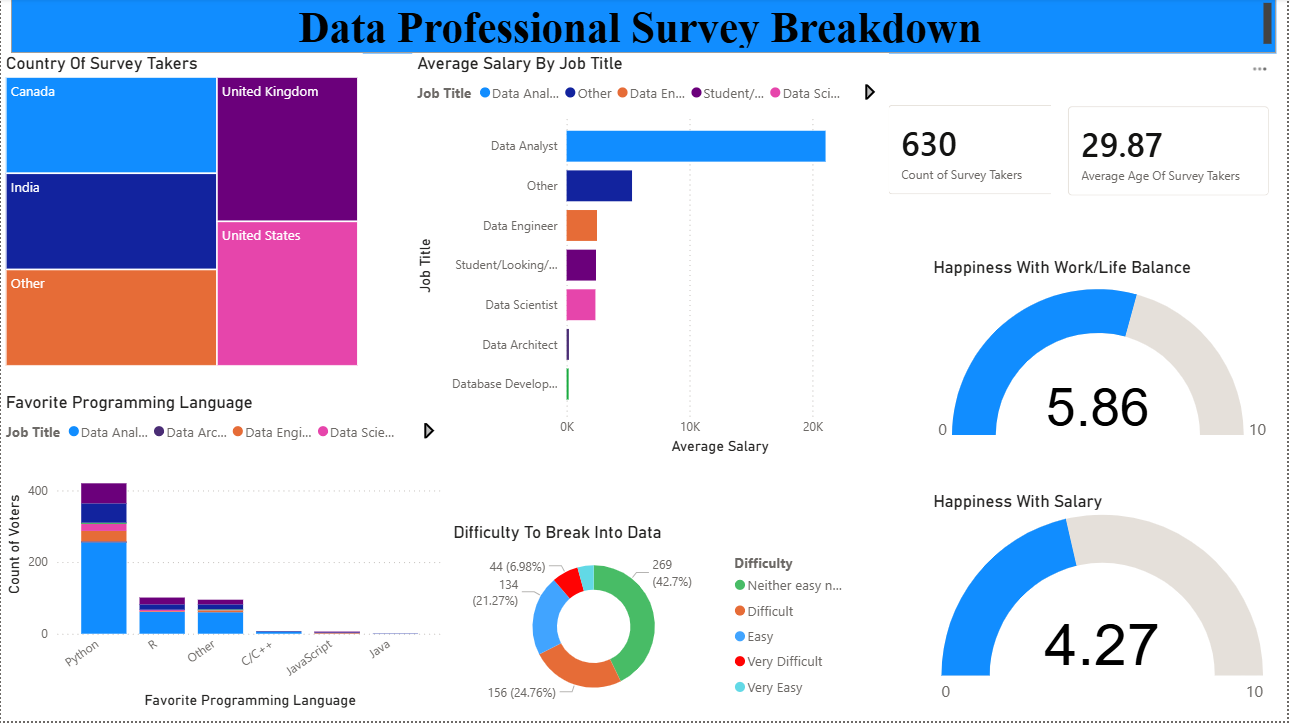

The dashboard page shown, as its layout file describes it:
{"tool":"powerbi","page":{"name":"Final_project","canvas":[1280,720],"ordinal":7},"visuals":[{"type":"textbox","box":[9.4,0,1259.3,54.8],"z":0},{"type":"cardVisual","fields":{"Data":["Count(Data Professional Survey.Unique ID)"]},"box":[866.2,89.3,206.8,123.7],"z":1},{"type":"cardVisual","fields":{"Data":["Avg(Data Professional Survey.Q10 - Current Age)"]},"box":[1044.8,90.8,235,123.7],"z":2},{"type":"barChart","title":"Average Salary By Job Title","fields":{"Category":["Data Professional Survey.Q1 - Which Title Best Fits your Current Role?.1"],"Series":["Data Professional Survey.Q1 - Which Title Best Fits your Current Role?.1"],"Y":["Sum(Data Professional Survey.Average Salary)"]},"box":[408.8,54.8,474.6,404.1],"z":3},{"type":"columnChart","title":" Favorite Programming Language","fields":{"Category":["Data Professional Survey.Q5 - Favorite Programming Language.1"],"Series":["Data Professional Survey.Q1 - Which Title Best Fits your Current Role?.1"],"Y":["CountNonNull(Data Professional Survey.Unique ID)"]},"box":[0,391.6,444.8,319.5],"z":4},{"type":"treemap","title":"Country Of Survey Takers","fields":{"Group":["Data Professional Survey.Q11 - Which Country do you live in?.1"],"Values":["Count(Data Professional Survey.Q11 - Which Country do you live in?.1)"]},"box":[0,54.8,360.3,316.4],"z":5},{"type":"gauge","title":"Happiness With Work/Life Balance","fields":{"MaxValue":["Max(Data Professional Survey.Q6 - How Happy are you in your Current Position with the following? (Coworkers))1"],"MinValue":["Min(Data Professional Survey.Q6 - How Happy are you in your Current Position with the following? (Coworkers))"],"Y":["Avg(Data Professional Survey.Q6 - How Happy are you in your Current Position with the following? (Coworkers))"]},"box":[922.6,256.9,346.2,195.8],"z":6},{"type":"gauge","title":"Happiness With Salary","fields":{"MaxValue":["Max(Data Professional Survey.Q6 - How Happy are you in your Current Position with the following? (Salary))"],"MinValue":["Min(Data Professional Survey.Q6 - How Happy are you in your Current Position with the following? (Salary))"],"Y":["Avg(Data Professional Survey.Q6 - How Happy are you in your Current Position with the following? (Salary))"]},"box":[922.6,490.3,346.2,220.9],"z":7},{"type":"donutChart","title":"Difficulty To Break Into Data","fields":{"Category":["Data Professional Survey.Q7 - How difficult was it for you to break into Data?"],"Y":["CountNonNull(Data Professional Survey.Q7 - How difficult was it for you to break into Data?)"]},"box":[444.8,521.6,410.4,189.5],"z":8}]}

Visuals, with their boxes in screenshot pixels (x1, y1, x2, y2), scaled from the page's 1280x720 canvas onto the 1290x723 screenshot:
textbox: 9 0 1279 55
cardVisual - Count(Data Professional Survey.Unique ID): 873 90 1081 214
cardVisual - Avg(Data Professional Survey.Q10 - Current Age): 1053 91 1289 215
"Average Salary By Job Title" barChart: 412 55 890 461
" Favorite Programming Language" columnChart: 0 393 448 714
"Country Of Survey Takers" treemap: 0 55 363 373
"Happiness With Work/Life Balance" gauge: 930 258 1279 455
"Happiness With Salary" gauge: 930 492 1279 714
"Difficulty To Break Into Data" donutChart: 448 524 862 714
